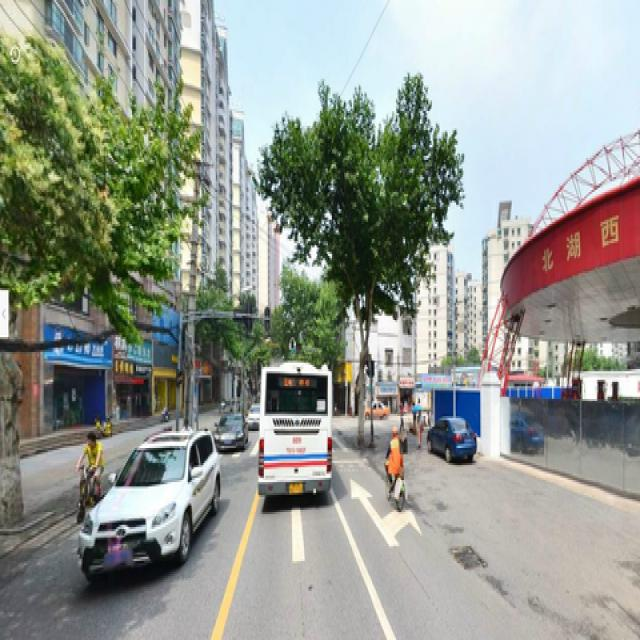meta: (274, 103, 458, 450)
